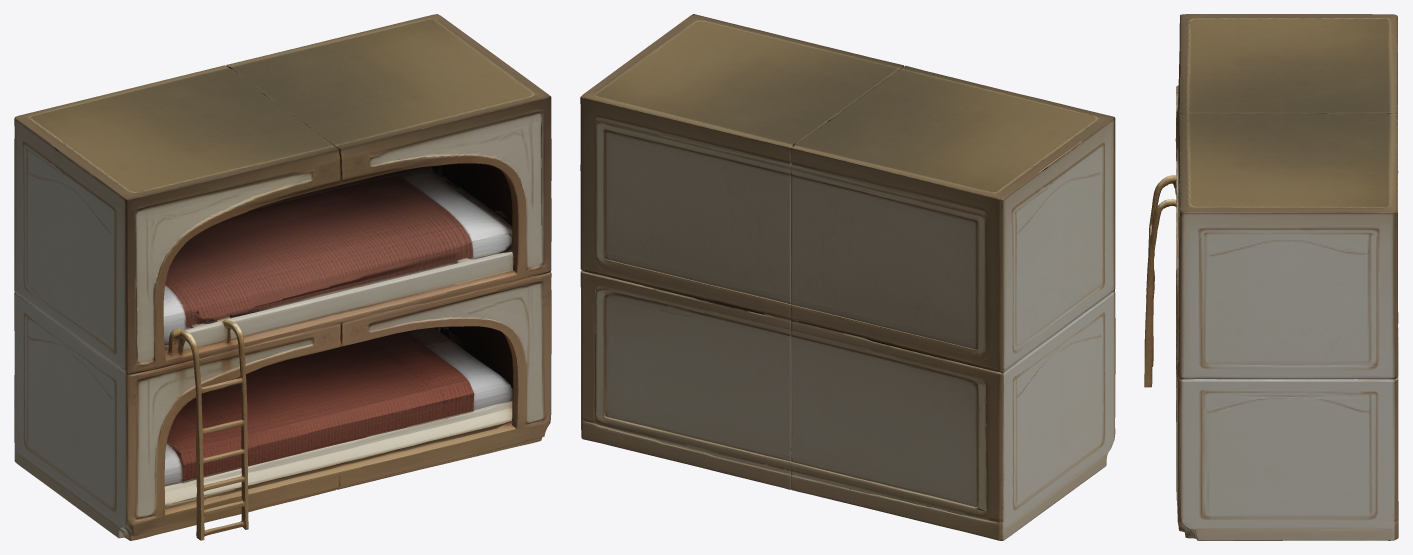
The model's file is bunk.glb.
The picture shows the model from 3 angles, left to right: view 1: azimuth 30°, elevation 25°; view 2: azimuth 150°, elevation 25°; view 3: azimuth 270°, elevation 25°; orthographic projection. The views are drawn at different scales.
Parts seen in each view (by area): view 1: world; view 2: world; view 3: world.
Boxes of the visible parts, x1=… form: world: x1=14, y1=14, x2=551, y2=540; world: x1=580, y1=14, x2=1115, y2=540; world: x1=1144, y1=14, x2=1398, y2=540.
Bounding box in the file's own units: 1 × 0.7773 × 0.5433.
Materials: 1 (1 with a texture image).
